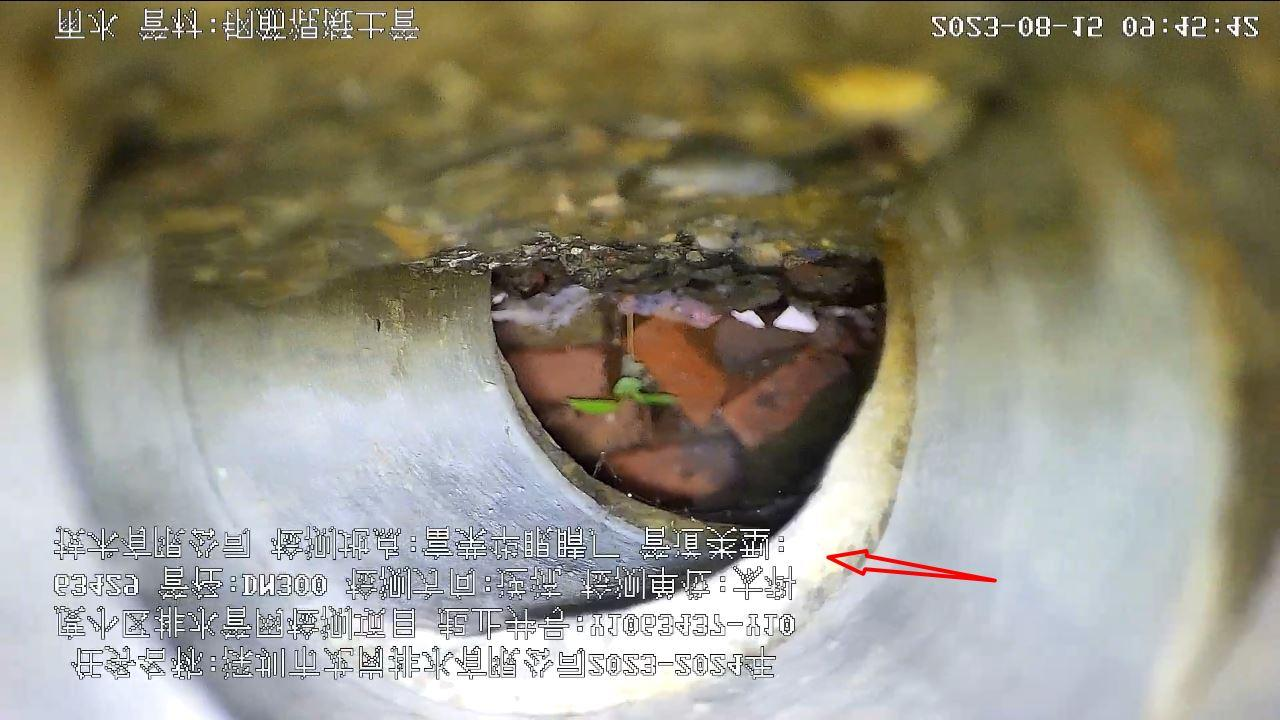CJ: (22, 4, 1021, 306)
CKTJ: (176, 227, 922, 719)
CQBG: (491, 260, 887, 528)
